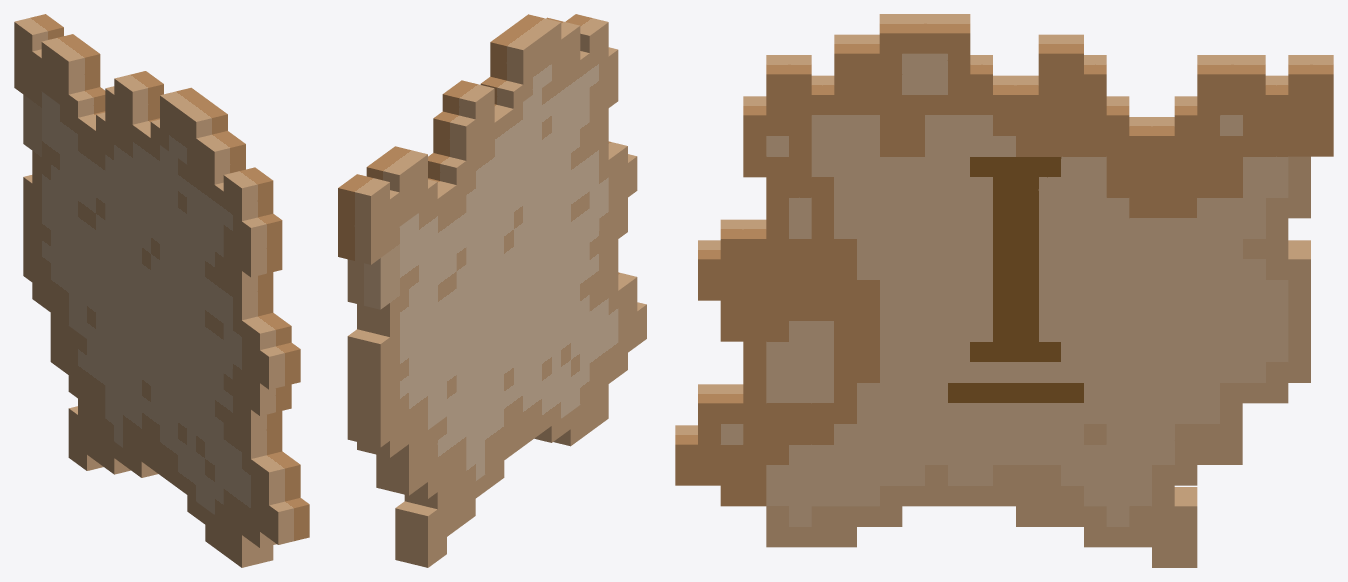
The model's file is item_foundersmappiece1.gltf.
3 views of the same model, side by side, from view 1: azimuth 30°, elevation 25°; view 2: azimuth 150°, elevation 25°; view 3: azimuth 270°, elevation 25° (orthographic). The views are drawn at different scales.
Visible parts, largest first — view 1: item_mappiece-Local; view 2: item_mappiece-Local; view 3: item_mappiece-Local.
Boxes of the visible parts, left/top/right/bottom form: item_mappiece-Local: left=14, top=14, right=309, bottom=567; item_mappiece-Local: left=338, top=14, right=646, bottom=567; item_mappiece-Local: left=675, top=14, right=1333, bottom=567.
Bounding box in the file's own units: 2 × 26 × 29.
1 material, 1 textured.
